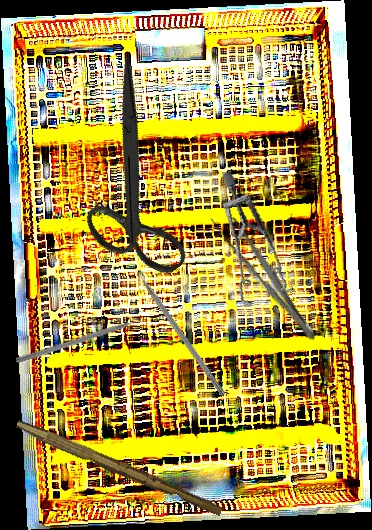Dressing Forceps: (206, 206, 325, 347)
Hook Surgical: (125, 257, 228, 397)
Iris Scissors: (19, 56, 249, 298)
Pusher: (15, 314, 151, 366)
Scalpel Handle: (12, 419, 226, 518)
Speculum: (190, 171, 318, 317)
